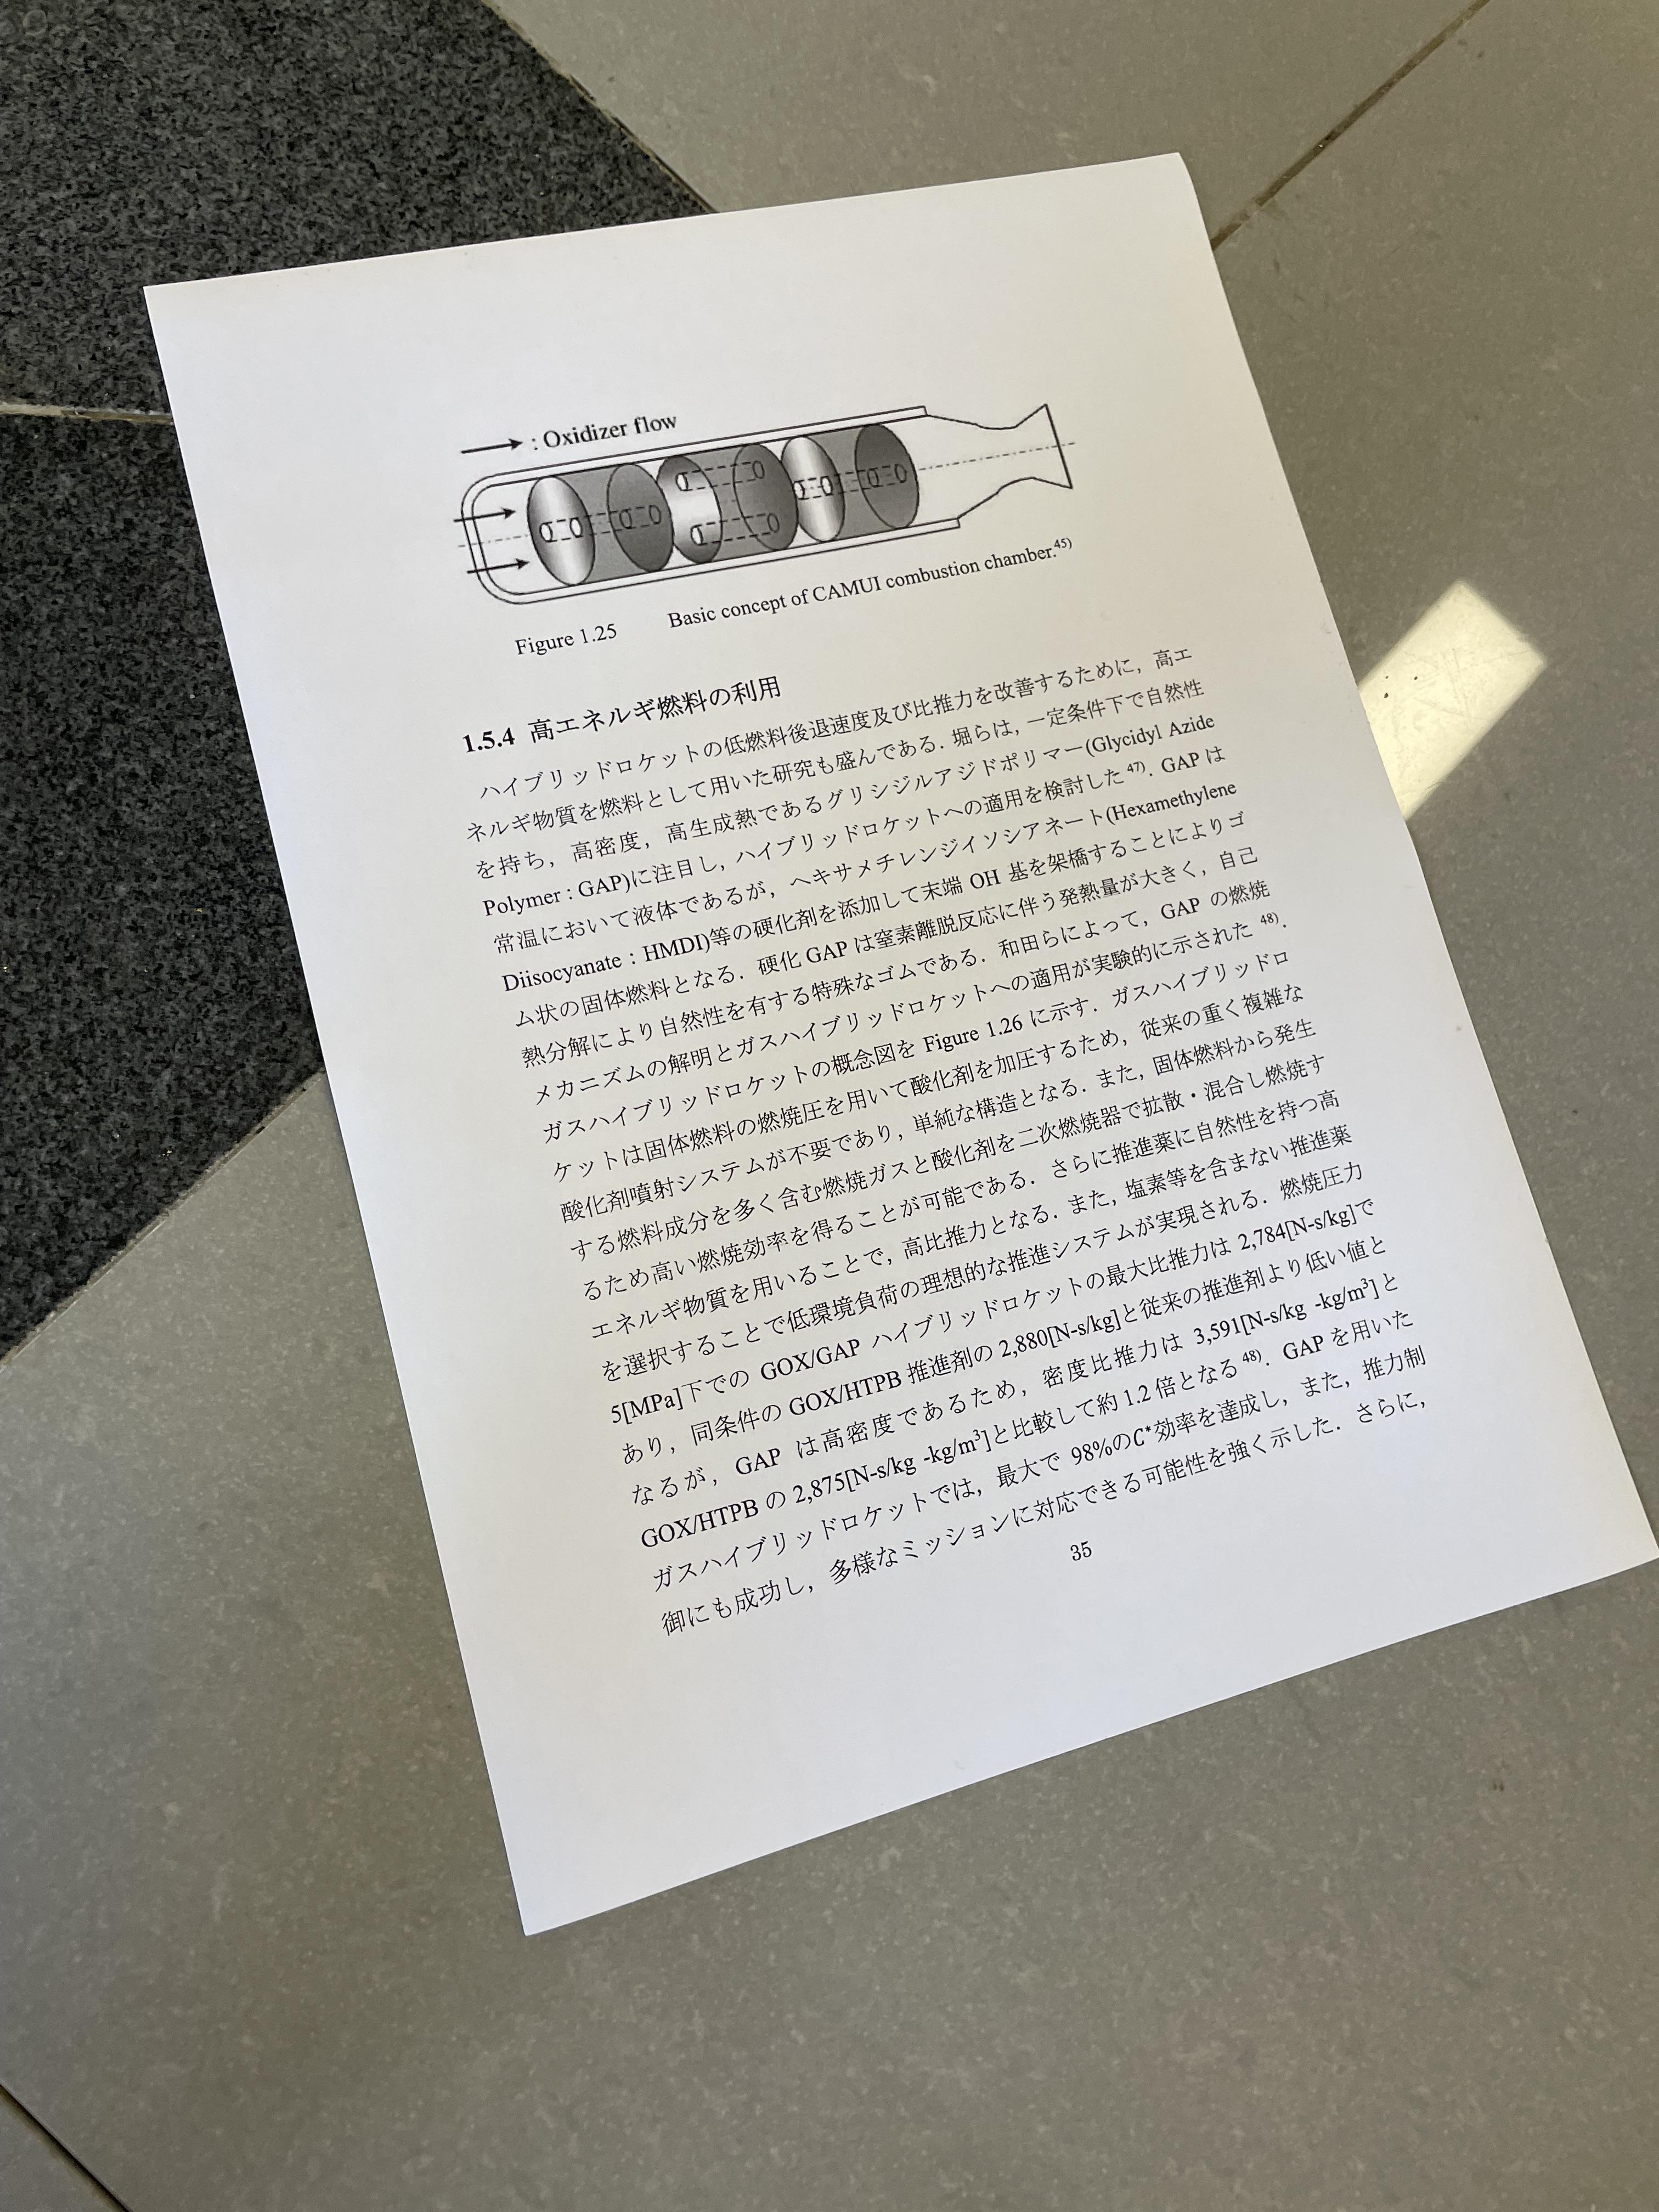paper: (77, 96, 1659, 1987)
